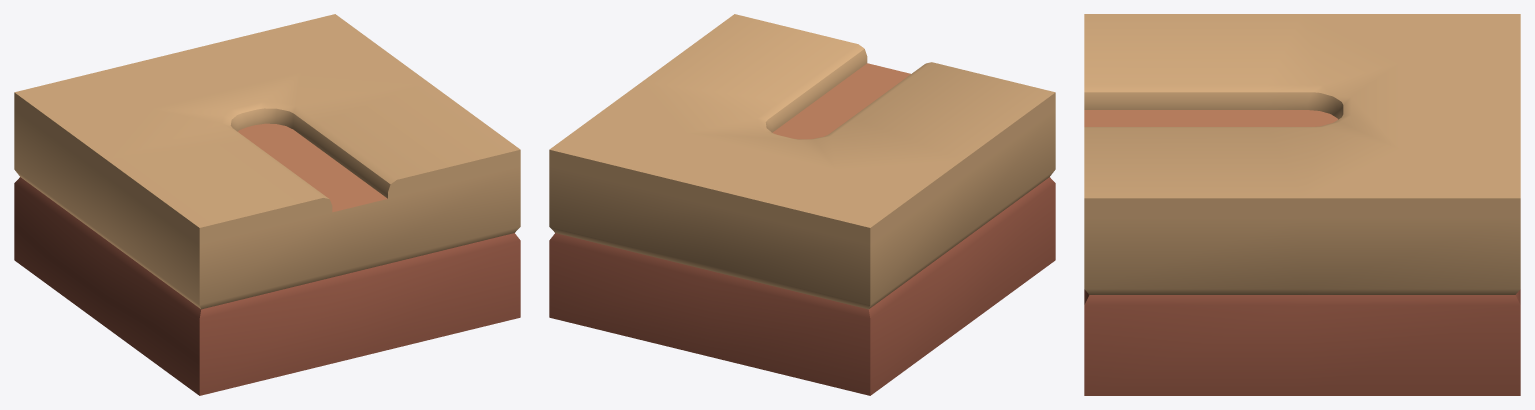
Rendered from square_sand_roadA_detail.glb.
The picture shows the model from 3 angles, left to right: view 1: azimuth 30°, elevation 25°; view 2: azimuth 150°, elevation 25°; view 3: azimuth 270°, elevation 25°; orthographic projection. The views are drawn at different scales.
Parts seen in each view (by area): view 1: square_sand_roadA_detail; view 2: square_sand_roadA_detail; view 3: square_sand_roadA_detail.
Part boxes in pixels (box(x1,y1,x2,y2)): square_sand_roadA_detail: box(14, 14, 520, 395); square_sand_roadA_detail: box(549, 14, 1055, 395); square_sand_roadA_detail: box(1084, 14, 1520, 395).
Bounding box in the file's own units: 2 × 1 × 2.
